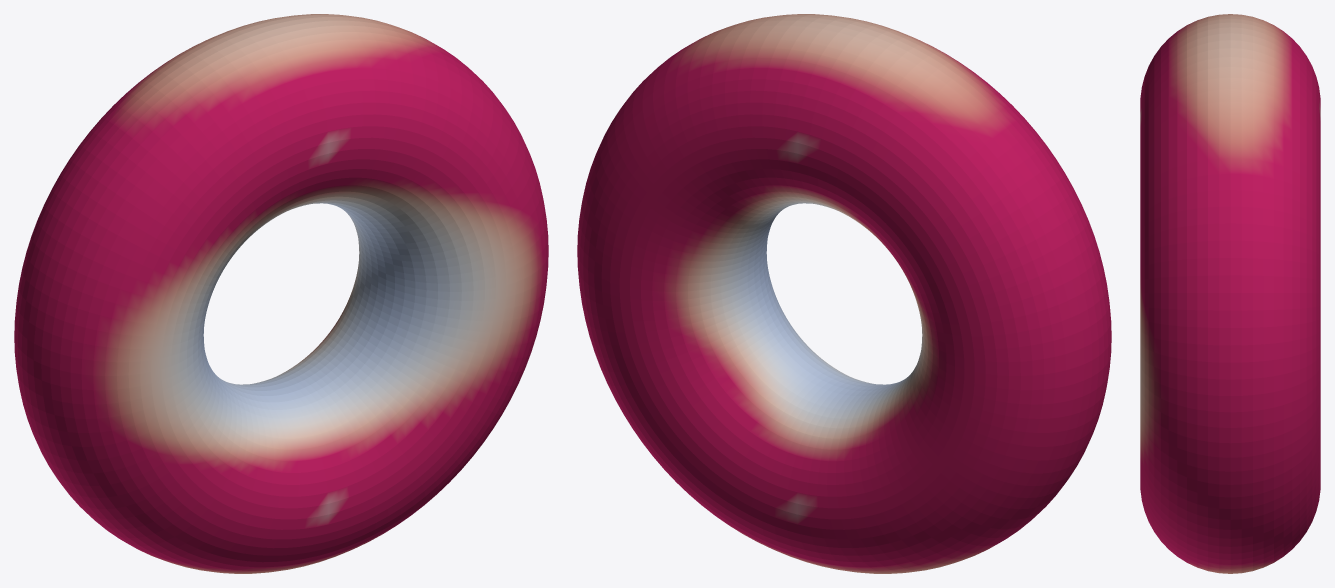
3 renders of one model, left to right at view 1: azimuth 30°, elevation 25°; view 2: azimuth 150°, elevation 25°; view 3: azimuth 270°, elevation 25°, orthographic. The views are drawn at different scales.
Parts seen in each view (by area): view 1: world; view 2: world; view 3: world.
Boxes of the visible parts, x1,y1,x2,y2 form: world: [14, 14, 548, 573]; world: [577, 14, 1111, 573]; world: [1140, 14, 1320, 573].
Bounding box in the file's own units: 28.53 × 28.53 × 9.18.
